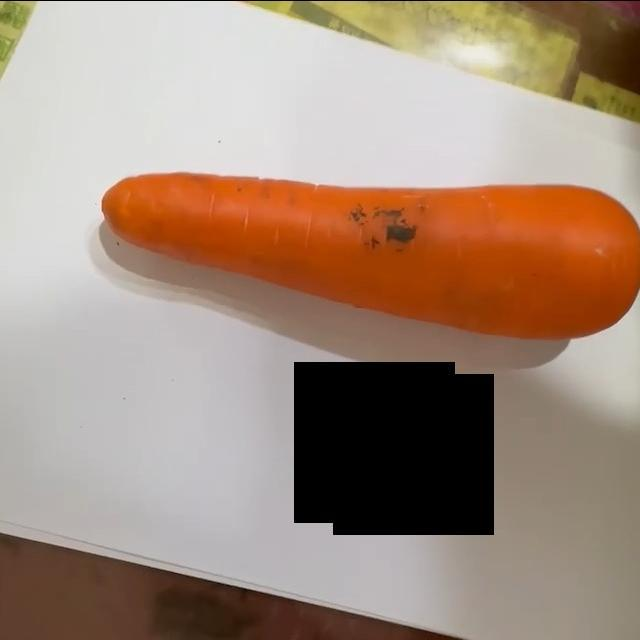carrot: (95, 169, 640, 341)
